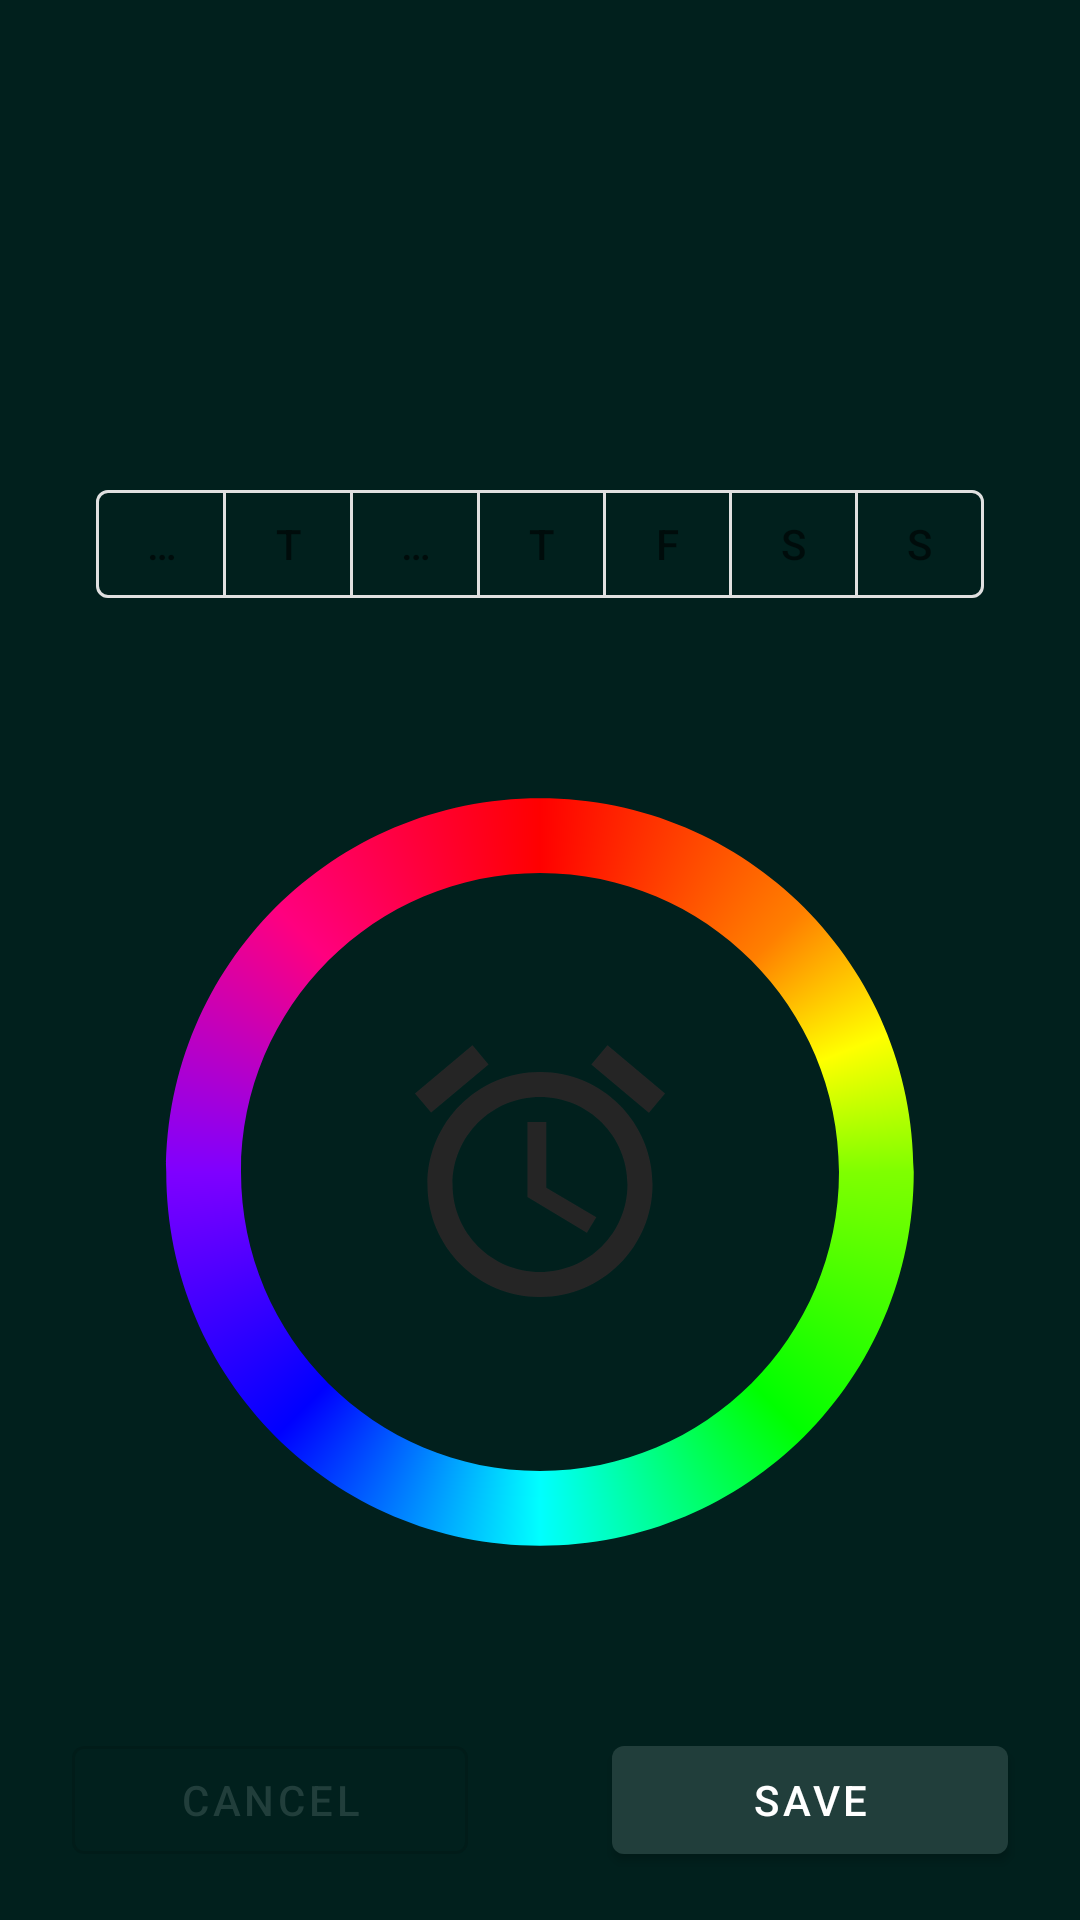

Icon bounding boxes for this 1080×1920 phone screenshot, format (x1, y1, x2, y2):
alarm: (415, 1046, 665, 1297)
